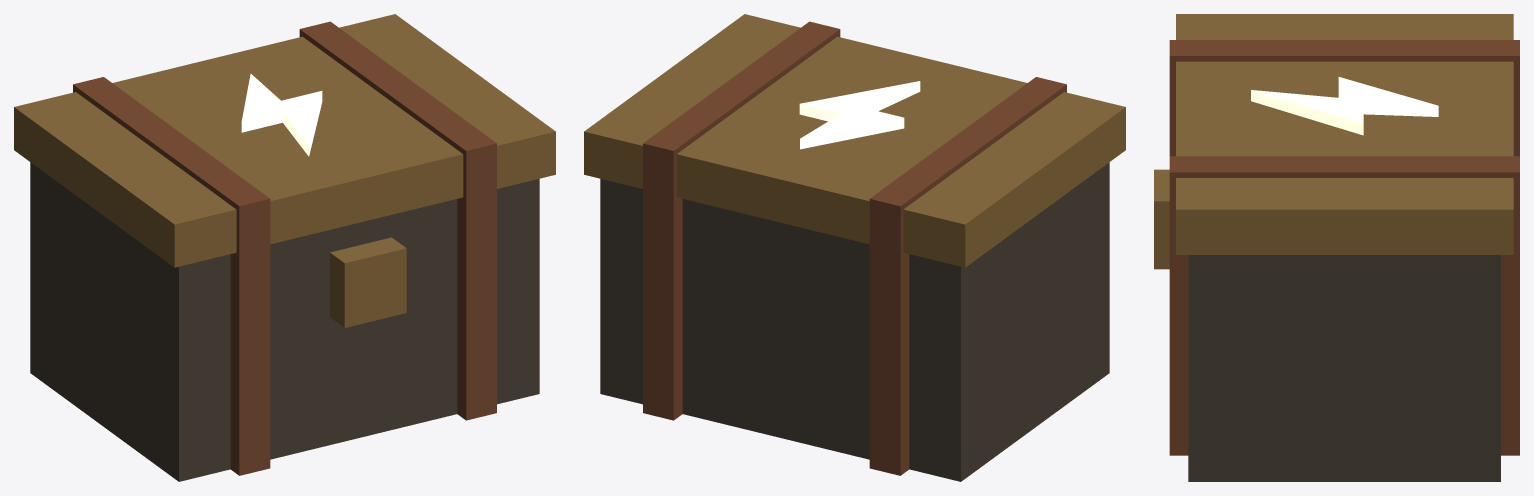
The model's file is sealed_box_electronics.glb.
The picture shows the model from 3 angles, left to right: view 1: azimuth 30°, elevation 25°; view 2: azimuth 150°, elevation 25°; view 3: azimuth 270°, elevation 25°; orthographic projection. The views are drawn at different scales.
Parts seen in each view (by area): view 1: sealed_box_electronics; view 2: sealed_box_electronics; view 3: sealed_box_electronics.
Part boxes in pixels (x1,y1,x2,y2): sealed_box_electronics: (14,14,555,481); sealed_box_electronics: (584,14,1125,481); sealed_box_electronics: (1154,14,1519,481).
Bounding box in the file's own units: 0.74 × 0.51 × 0.585.
